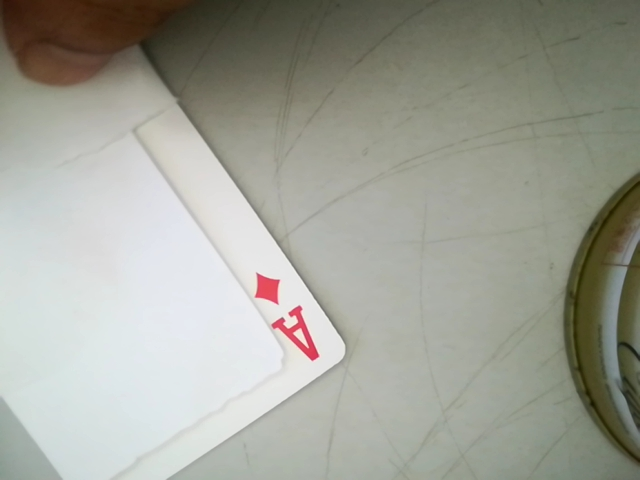fk a: (239, 265, 326, 369)
